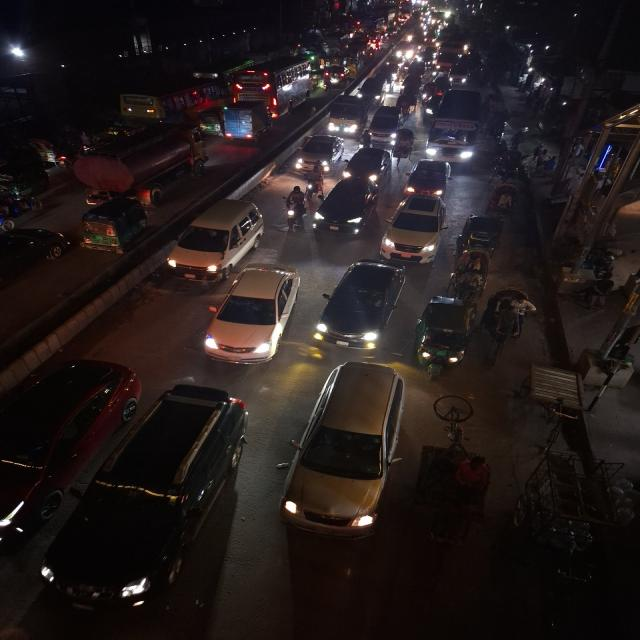bus: (230, 56, 315, 118), (424, 87, 488, 167), (116, 77, 227, 121)
car: (42, 385, 255, 619), (0, 358, 142, 564), (282, 358, 414, 550), (202, 261, 306, 368), (315, 256, 411, 352), (166, 196, 267, 280), (0, 224, 68, 302), (382, 193, 449, 263), (311, 176, 381, 238), (290, 132, 346, 173), (404, 158, 454, 198), (343, 146, 392, 186), (363, 104, 404, 145), (353, 77, 388, 101)
cng: (412, 296, 479, 378), (78, 197, 152, 255), (197, 106, 224, 136)
motorcycle: (280, 184, 308, 231)
pickup_van: (326, 96, 369, 136)
rickshaw: (413, 444, 494, 554), (490, 286, 539, 348), (446, 248, 494, 302), (459, 214, 505, 256), (485, 183, 520, 215), (391, 126, 418, 158)
truck: (72, 121, 207, 196)
